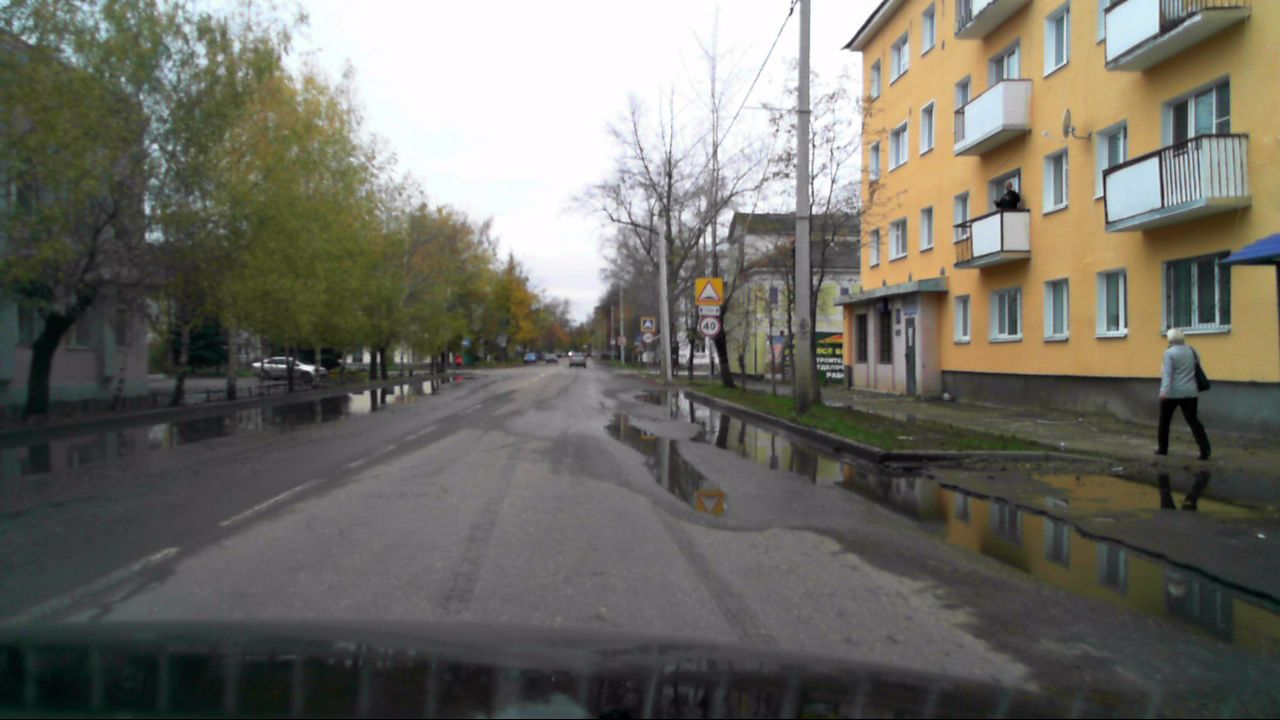speed_warning_40: (699, 316, 721, 336)
